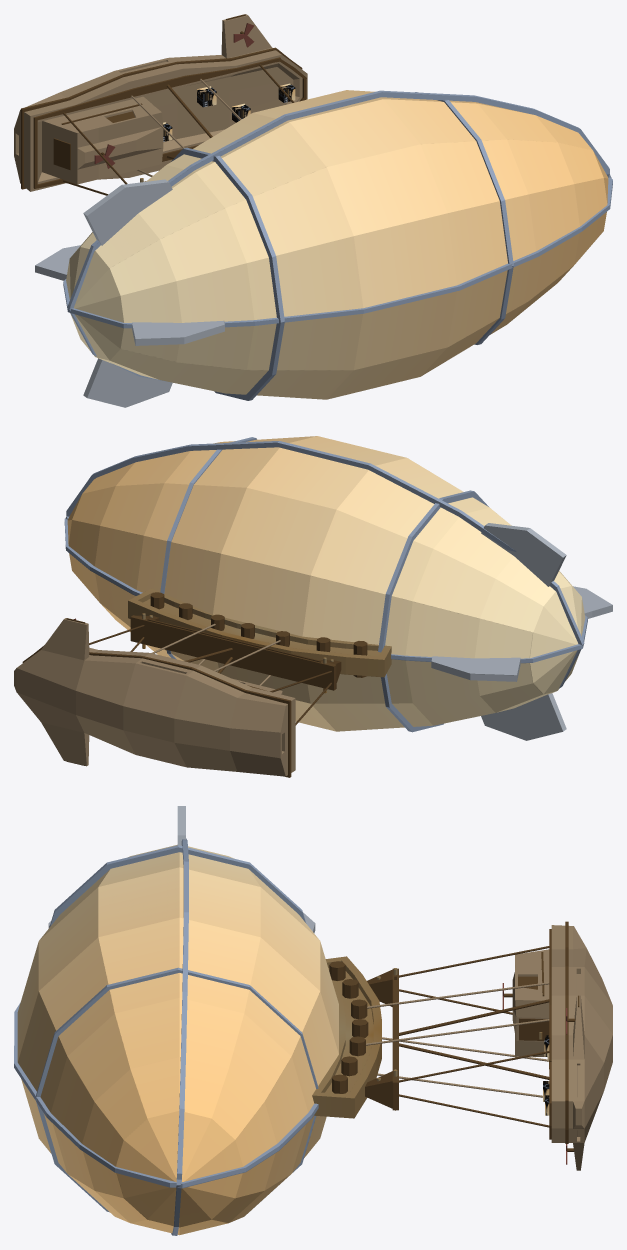
3 views of the same model, one above another, from view 1: azimuth 30°, elevation 25°; view 2: azimuth 150°, elevation 25°; view 3: azimuth 270°, elevation 25° (orthographic). The views are drawn at different scales.
Visible parts, largest first — view 1: CUPIC_AIRSHIP; view 2: CUPIC_AIRSHIP; view 3: CUPIC_AIRSHIP.
Part boxes in pixels (bbox=[...]): CUPIC_AIRSHIP: bbox=[14, 14, 612, 407]; CUPIC_AIRSHIP: bbox=[14, 436, 612, 777]; CUPIC_AIRSHIP: bbox=[14, 806, 612, 1235].
Size of the model in its own units: 3.76 by 1.81 by 3.28.
1 material, 1 textured.
